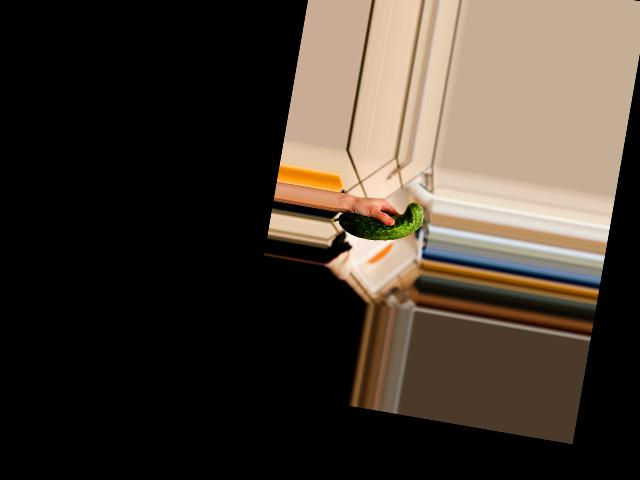cucumber: (330, 189, 425, 248)
